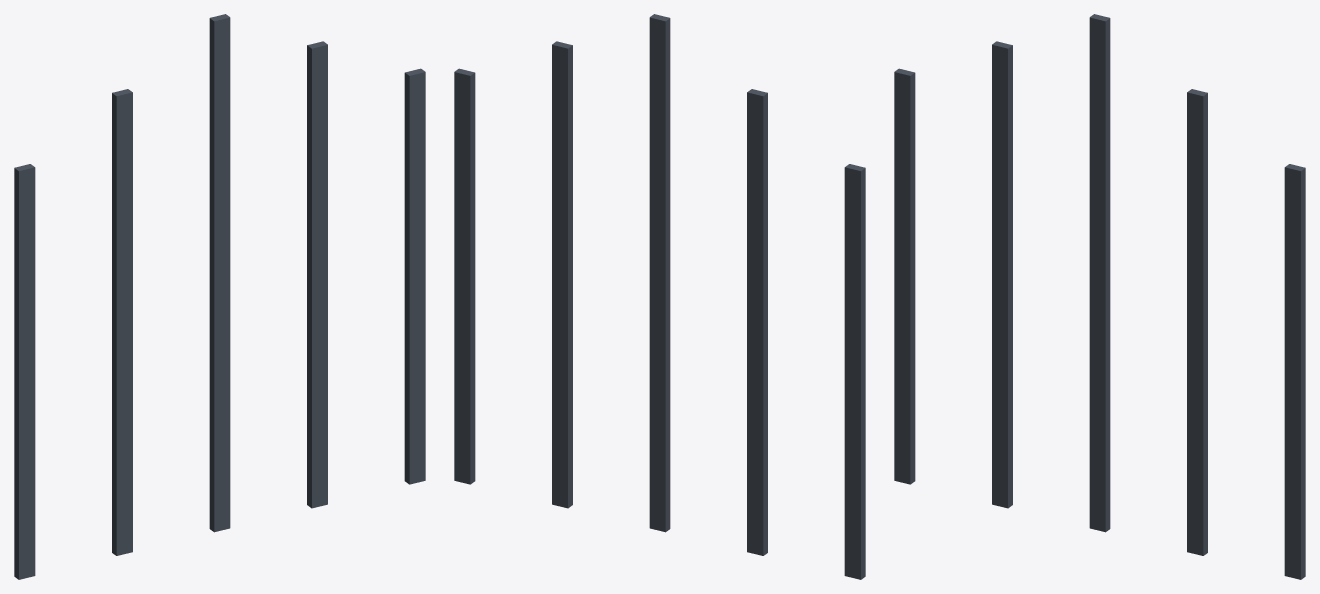
Rendered from e_corridor_gate_bars.obj.
3 views of the same model, side by side, from view 1: azimuth 30°, elevation 25°; view 2: azimuth 150°, elevation 25°; view 3: azimuth 330°, elevation 25° (orthographic).
Size of the model in its own units: 5 by 6 by 0.1.
1 material, 1 textured.
